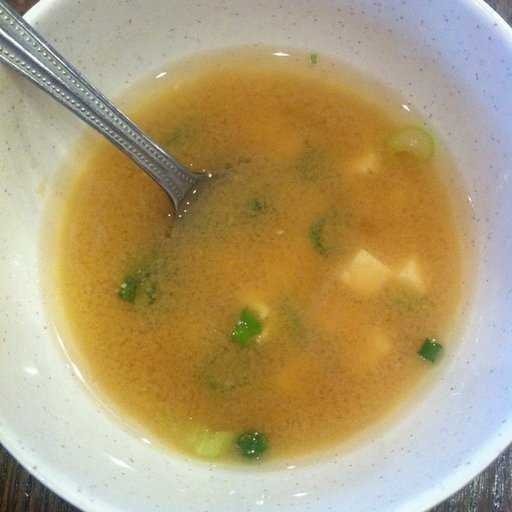soup: (1, 5, 465, 477)
